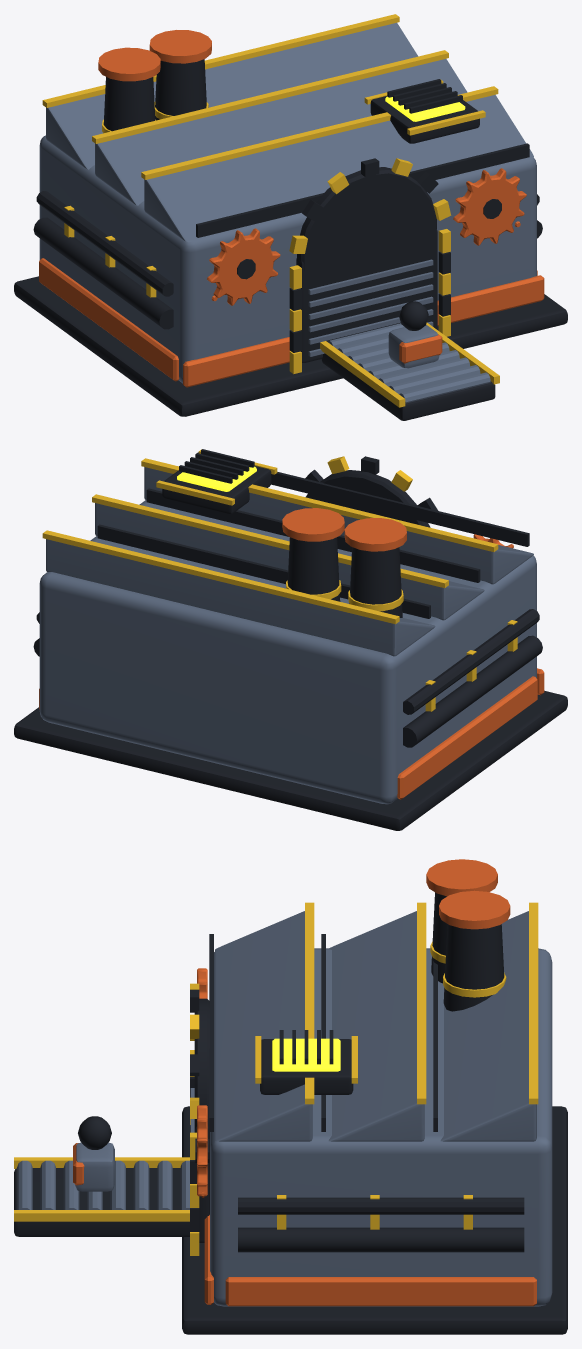
The model's file is fabricator.fbx.
3 views of the same model, one above another, from view 1: azimuth 30°, elevation 25°; view 2: azimuth 150°, elevation 25°; view 3: azimuth 270°, elevation 25° (orthographic). The views are drawn at different scales.
Parts seen in each view (by area): view 1: Body, Vent; view 2: Body, Vent; view 3: Body, Vent.
Part boxes in pixels (<box>): Body: <box>14,14,567,420</box>; Vent: <box>385,96,465,121</box>; Body: <box>14,449,567,830</box>; Vent: <box>177,466,256,491</box>; Body: <box>14,859,567,1334</box>; Vent: <box>272,1038,340,1071</box>.
Bounding box in the file's own units: 16.4 × 10.15 × 17.8.
2 materials, 1 textured.
